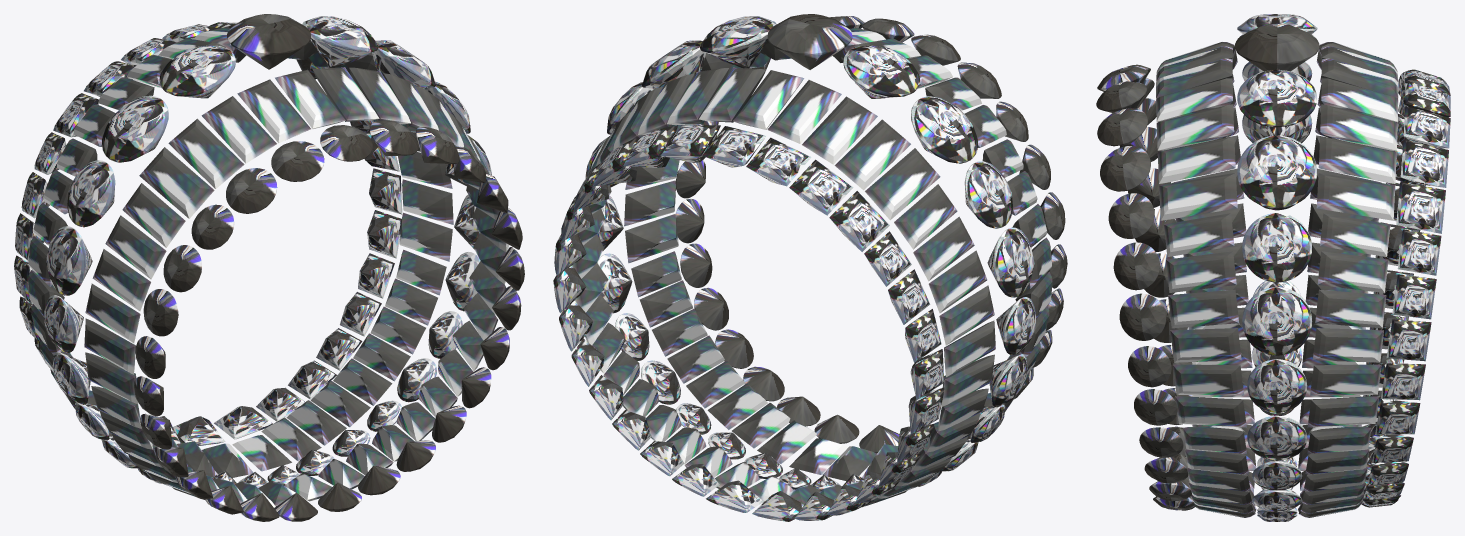
The model's file is STONES (1).fbx.
3 views of the same model, side by side, from view 1: azimuth 30°, elevation 25°; view 2: azimuth 150°, elevation 25°; view 3: azimuth 270°, elevation 25° (orthographic).
Parts seen in each view (by area): view 1: Object_42, Object_127, Object_129, Object_97, Object_96, Object_128, Object_43, Object_95, Object_44, Object_94, Object_116, Object_93 (+101 smaller); view 2: Object_42, Object_127, Object_129, Object_32, Object_31, Object_128, Object_43, Object_30, Object_44, Object_29, Object_28, Object_27 (+102 smaller); view 3: Object_52, Object_53, Object_54, Object_128, Object_127, Object_115, Object_79, Object_114, Object_78, Object_55, Object_77, Object_113 (+76 smaller).
Boxes of the visible parts, bbox=[...] form: Object_42: bbox=[102, 95, 168, 162]; Object_127: bbox=[227, 14, 310, 69]; Object_129: bbox=[159, 45, 235, 98]; Object_97: bbox=[139, 147, 214, 218]; Object_96: bbox=[168, 118, 244, 188]; Object_128: bbox=[302, 16, 378, 67]; Object_43: bbox=[67, 160, 115, 227]; Object_95: bbox=[201, 96, 276, 163]; Object_44: bbox=[46, 226, 92, 295]; Object_94: bbox=[237, 79, 310, 143]; Object_116: bbox=[275, 69, 345, 128]; Object_93: bbox=[122, 183, 185, 247]; Object_42: bbox=[911, 96, 977, 163]; Object_127: bbox=[767, 14, 852, 69]; Object_129: bbox=[843, 45, 919, 98]; Object_32: bbox=[865, 148, 940, 220]; Object_31: bbox=[834, 119, 910, 190]; Object_128: bbox=[700, 16, 776, 68]; Object_43: bbox=[964, 161, 1012, 228]; Object_30: bbox=[802, 96, 877, 164]; Object_44: bbox=[987, 227, 1034, 297]; Object_29: bbox=[767, 80, 841, 143]; Object_28: bbox=[733, 70, 804, 129]; Object_27: bbox=[894, 184, 957, 249]; Object_52: bbox=[1237, 135, 1316, 208]; Object_53: bbox=[1242, 213, 1311, 282]; Object_54: bbox=[1242, 286, 1312, 355]; Object_128: bbox=[1237, 69, 1316, 127]; Object_127: bbox=[1235, 23, 1319, 71]; Object_115: bbox=[1159, 173, 1237, 220]; Object_79: bbox=[1316, 173, 1395, 220]; Object_114: bbox=[1157, 136, 1235, 183]; Object_78: bbox=[1318, 136, 1396, 183]; Object_55: bbox=[1247, 359, 1307, 412]; Object_77: bbox=[1320, 104, 1397, 150]; Object_113: bbox=[1156, 104, 1234, 150].
Size of the model in its own units: 25.16 by 17.76 by 25.66.
1 material, 1 textured.
